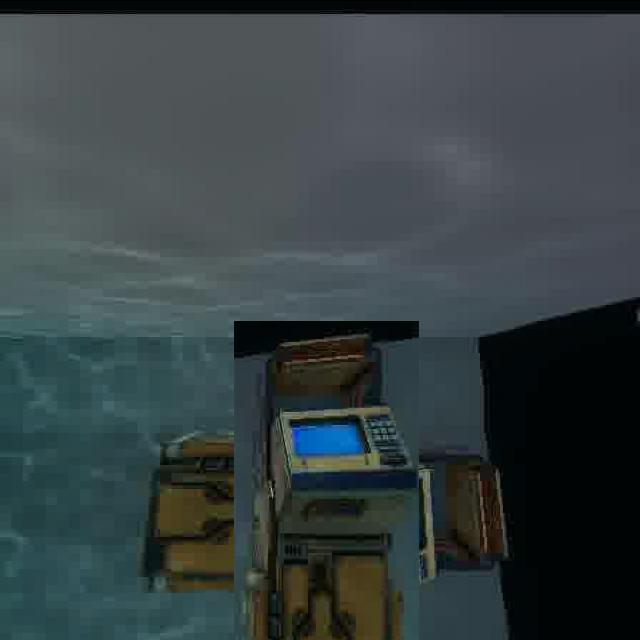Control Panel: (184, 370, 471, 640)
